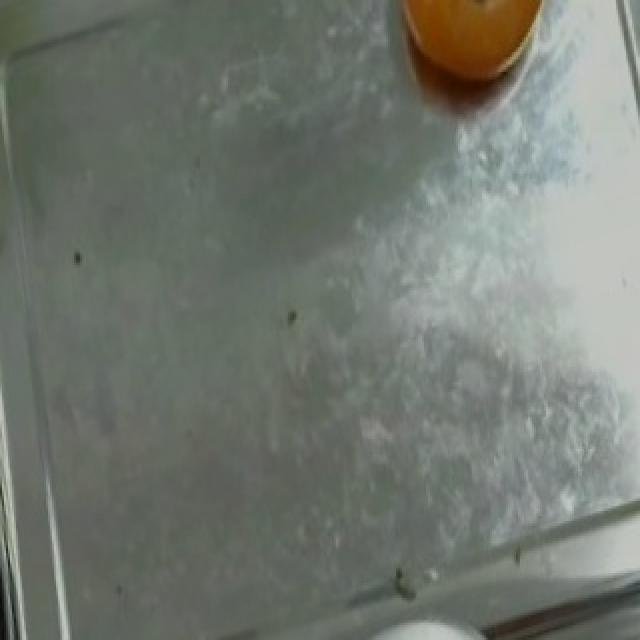Fruit: (368, 0, 572, 119), (330, 598, 544, 640)
